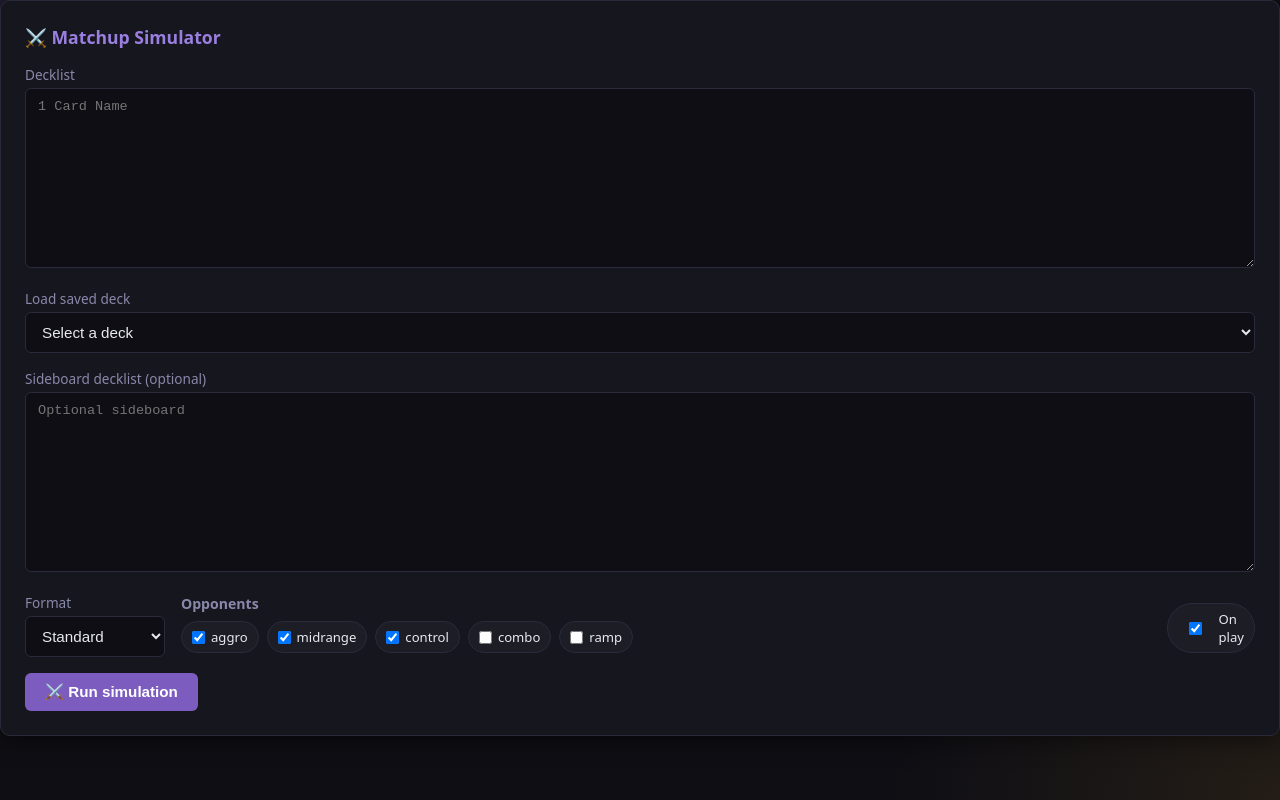
Test: MatchupSimulator › loads and selects owned saved deck
Select "Owned Deck (pioneer)" in the dropdown showing "Select a deck" below "Load saved deck": (640,332) x1=25 y1=312 x2=1255 y2=353
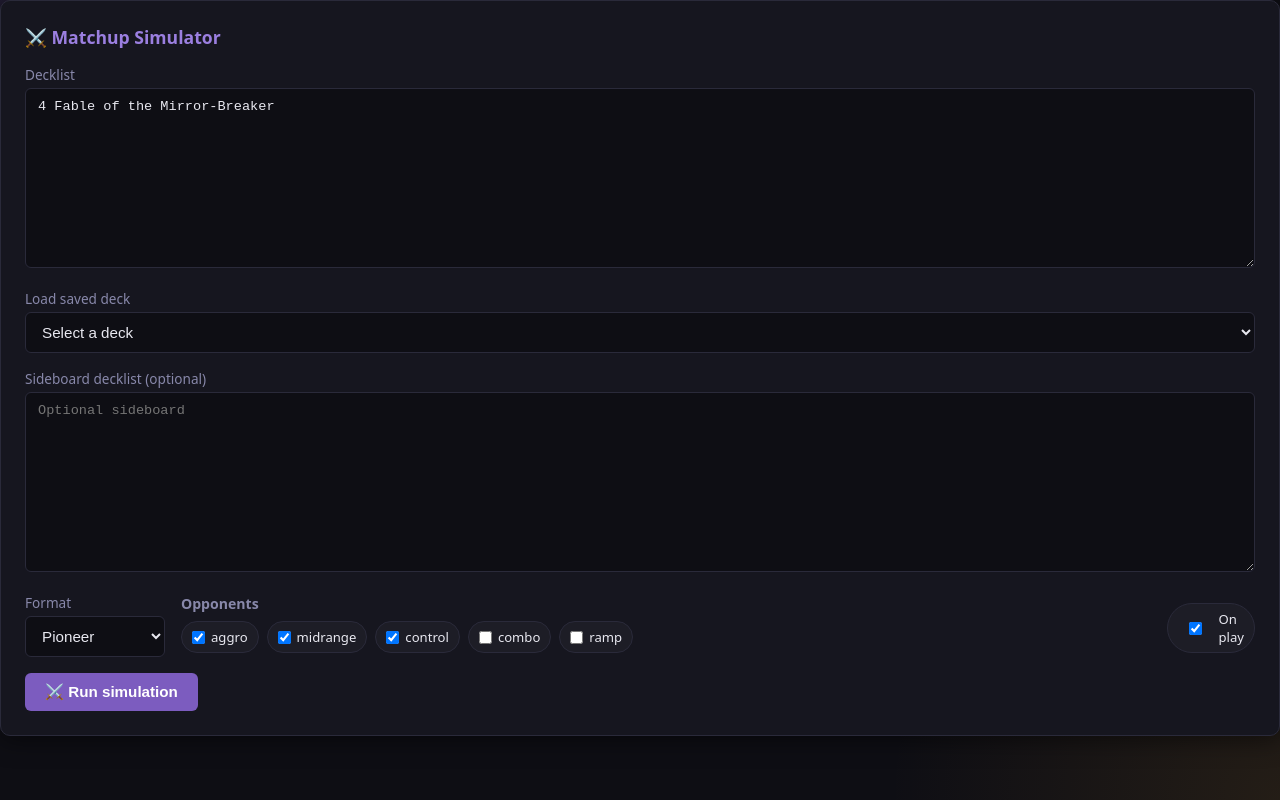
expect the text box showing "4 Fable of the Mirror-Breaker" is shown: met, box x1=25 y1=88 x2=1255 y2=268
expect the dropdown showing "Pioneer" below "Format" is shown: met, box x1=25 y1=616 x2=165 y2=657
